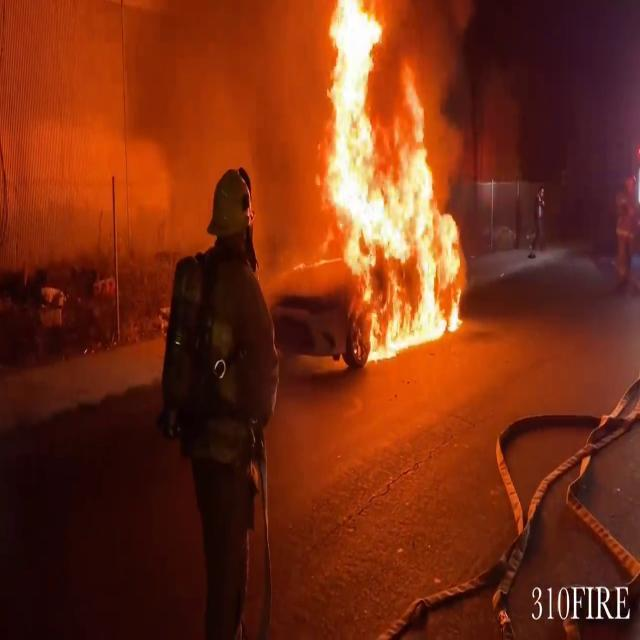Fire: (316, 1, 477, 360)
